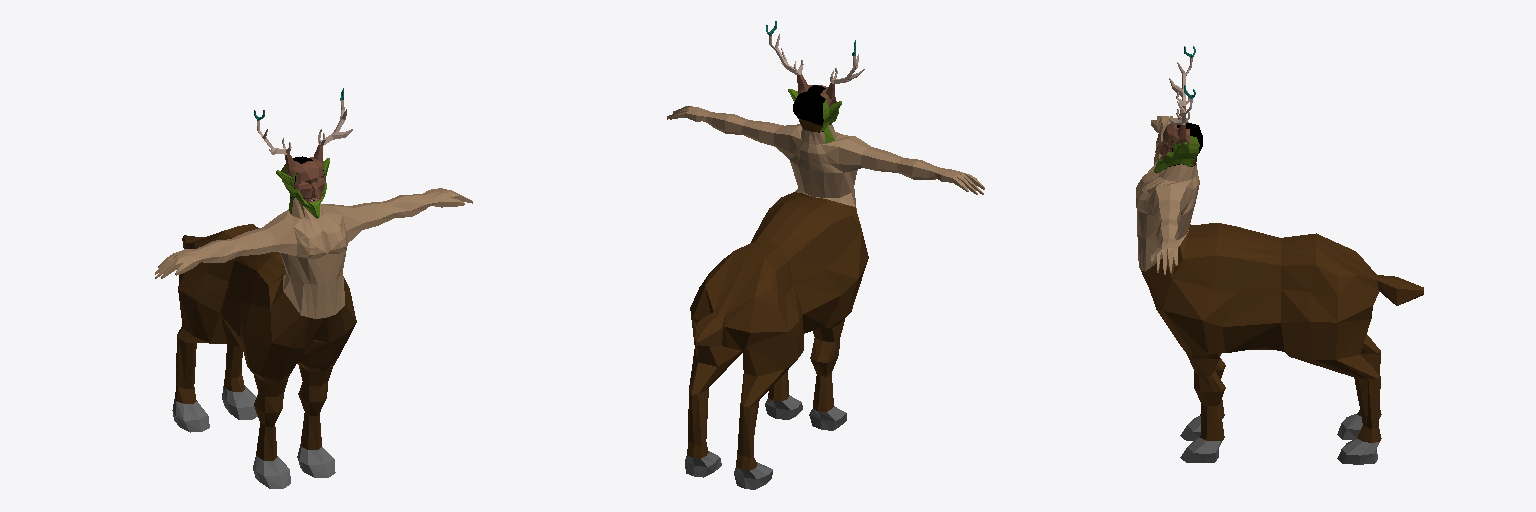
3 views of the same model, side by side, from view 1: azimuth 30°, elevation 25°; view 2: azimuth 150°, elevation 25°; view 3: azimuth 270°, elevation 25° (orthographic).
Parts seen in each view (by area): view 1: Main_body; view 2: Main_body; view 3: Main_body.
Boxes of the visible parts, x1=… form: Main_body: x1=155, y1=88, x2=472, y2=488; Main_body: x1=667, y1=21, x2=984, y2=489; Main_body: x1=1136, y1=46, x2=1423, y2=464.
Size of the model in its own units: 26.36 by 30.44 by 20.88.
Materials: 1 (1 with a texture image).